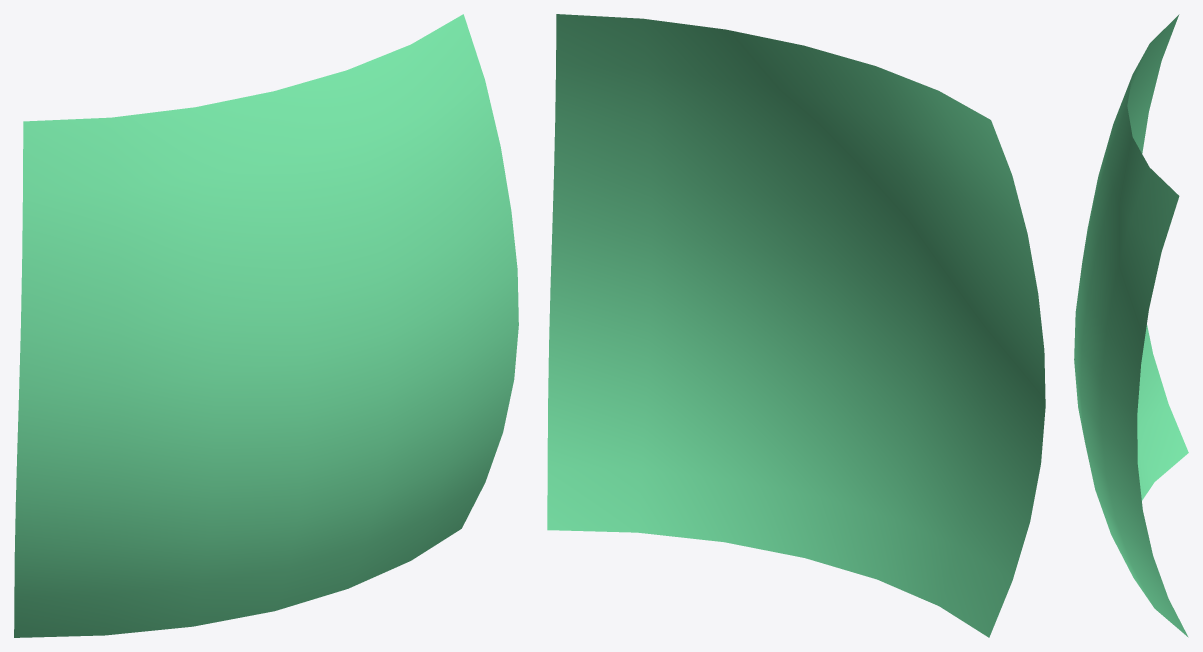
File: Danger Robot Face.fbx
3 views of the same model, side by side, from view 1: azimuth 30°, elevation 25°; view 2: azimuth 150°, elevation 25°; view 3: azimuth 270°, elevation 25° (orthographic). The views are drawn at different scales.
Visible parts, largest first — view 1: Danger Robot; view 2: Danger Robot; view 3: Danger Robot.
Boxes of the visible parts, x1,y1,x2,y2 form: Danger Robot: (14,14,518,637); Danger Robot: (547,14,1045,637); Danger Robot: (1074,14,1188,637).
Size of the model in its own units: 32.13 by 31.86 by 7.51.
